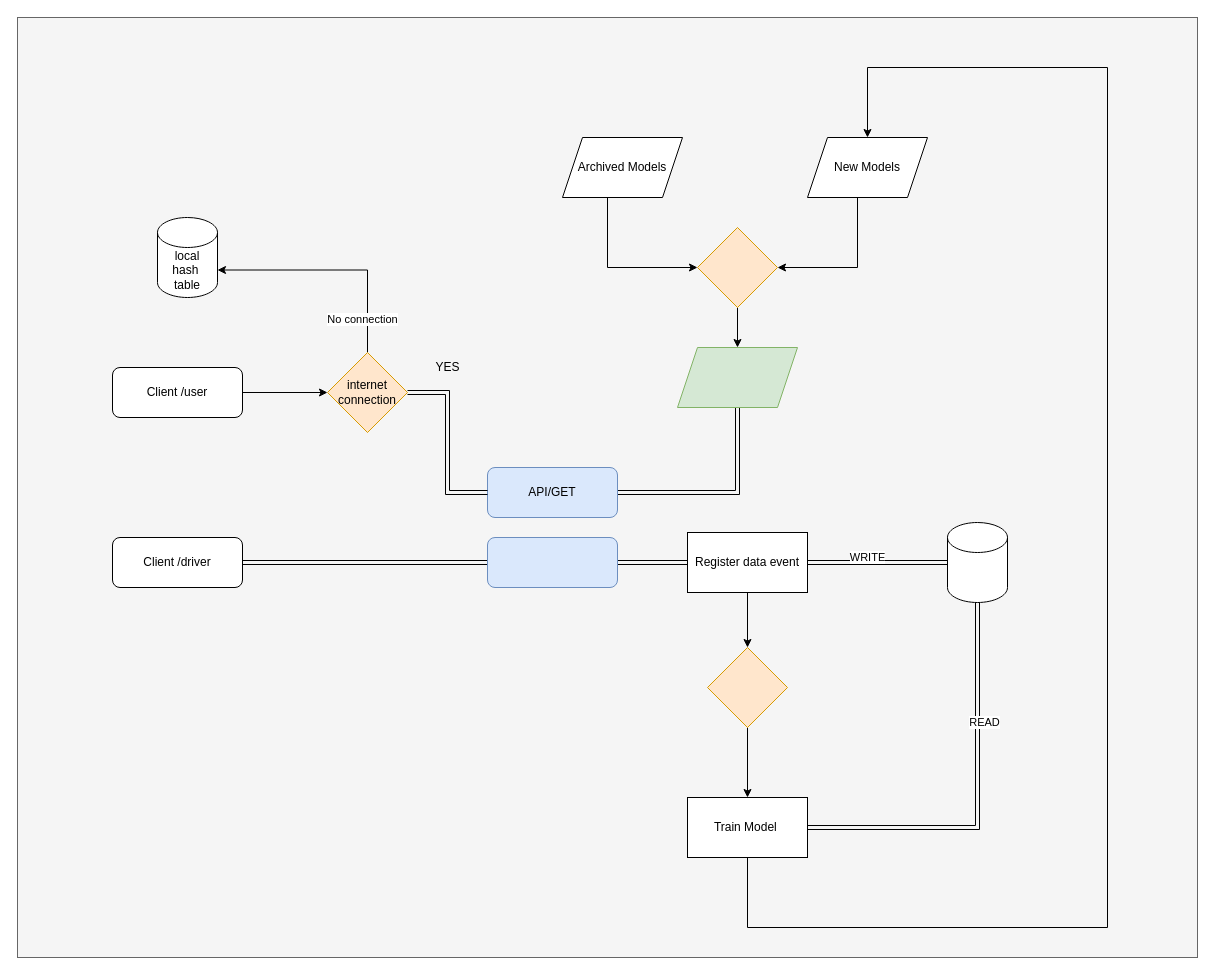
The diagram is 1215 pixels wide and 975 high, and some of its shapes have lost their labels. The shapes that lost their labels are listed below. From the top down, each one's box as (x1, y1, x2, y2) in pixels, then its label:
(696, 226, 778, 308): VS
(676, 346, 798, 408): Trained Model
(486, 536, 618, 588): API/POST
(946, 522, 1008, 602): data
(706, 646, 788, 728): Online Training
